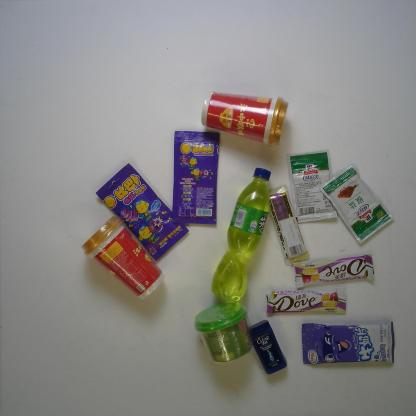Candy: (94, 161, 190, 264), (170, 129, 222, 227), (300, 320, 396, 368)
Chocolate: (266, 183, 311, 267), (293, 252, 376, 289), (264, 286, 348, 318)
Drink: (210, 164, 272, 302)
Instant Drink: (80, 214, 167, 301), (200, 90, 292, 148), (194, 300, 254, 366)
Personal Hygiene: (249, 318, 290, 377)
Seasoner: (318, 162, 395, 246), (286, 147, 338, 226)
